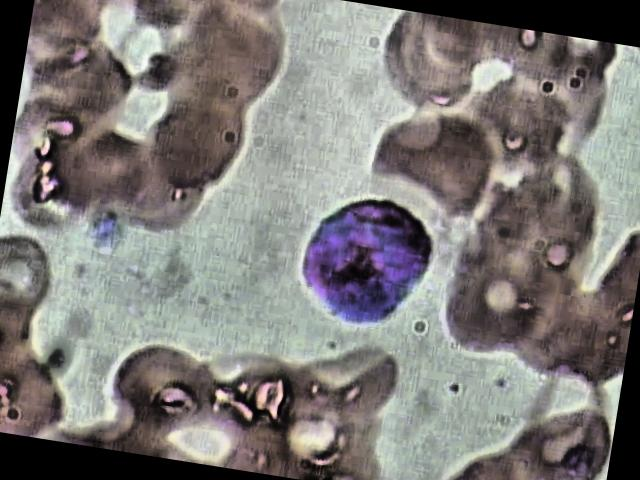Platelets: (84, 212, 135, 258)
RBC: (351, 99, 512, 227), (95, 330, 226, 450), (14, 24, 145, 143), (142, 83, 258, 208), (502, 153, 617, 278), (370, 8, 485, 132), (180, 0, 295, 123), (431, 251, 548, 371), (507, 349, 623, 469), (499, 395, 615, 480), (297, 340, 414, 423), (0, 229, 70, 343), (29, 0, 132, 46), (115, 0, 212, 45), (438, 442, 544, 480)
WBC: (272, 172, 448, 346)
